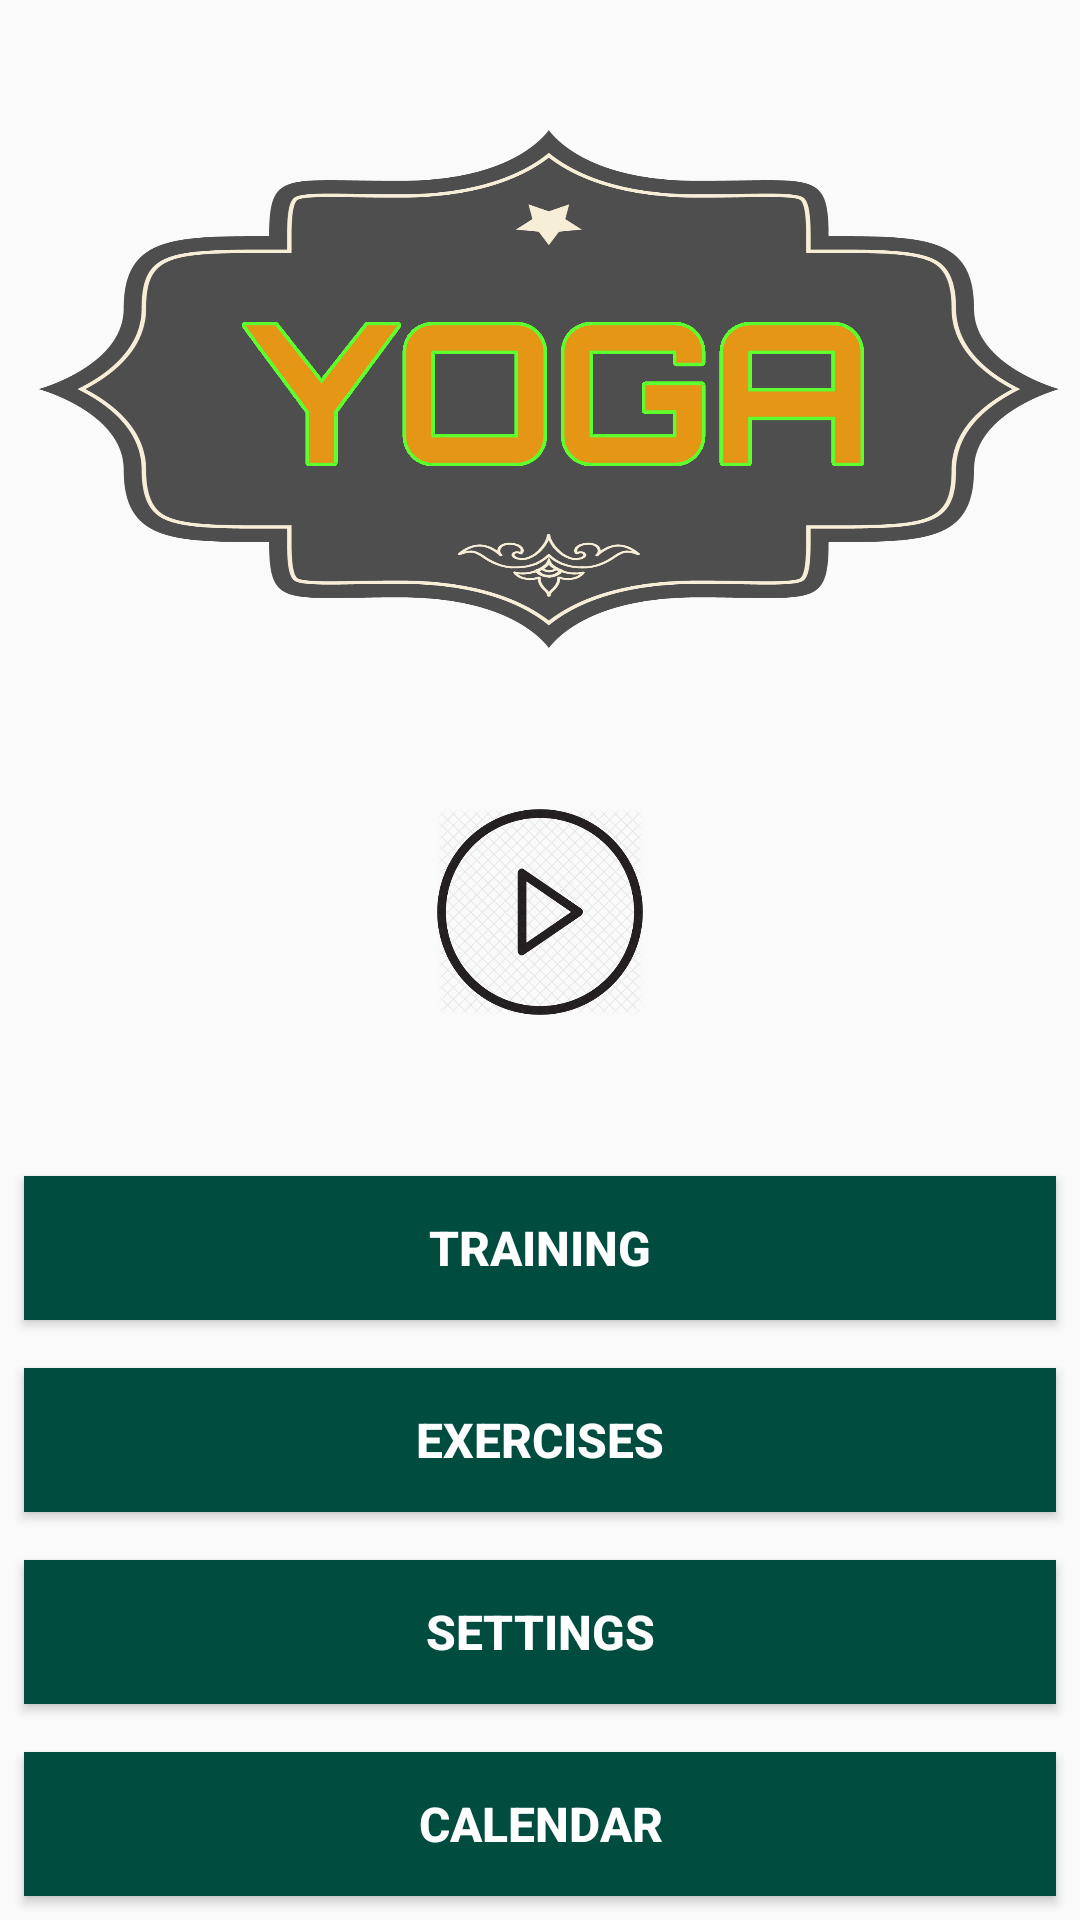

Screen size 1080px x 1920px. Icon name, then its center in pixels as (x=x, y=y):
play: (x=540, y=912)
